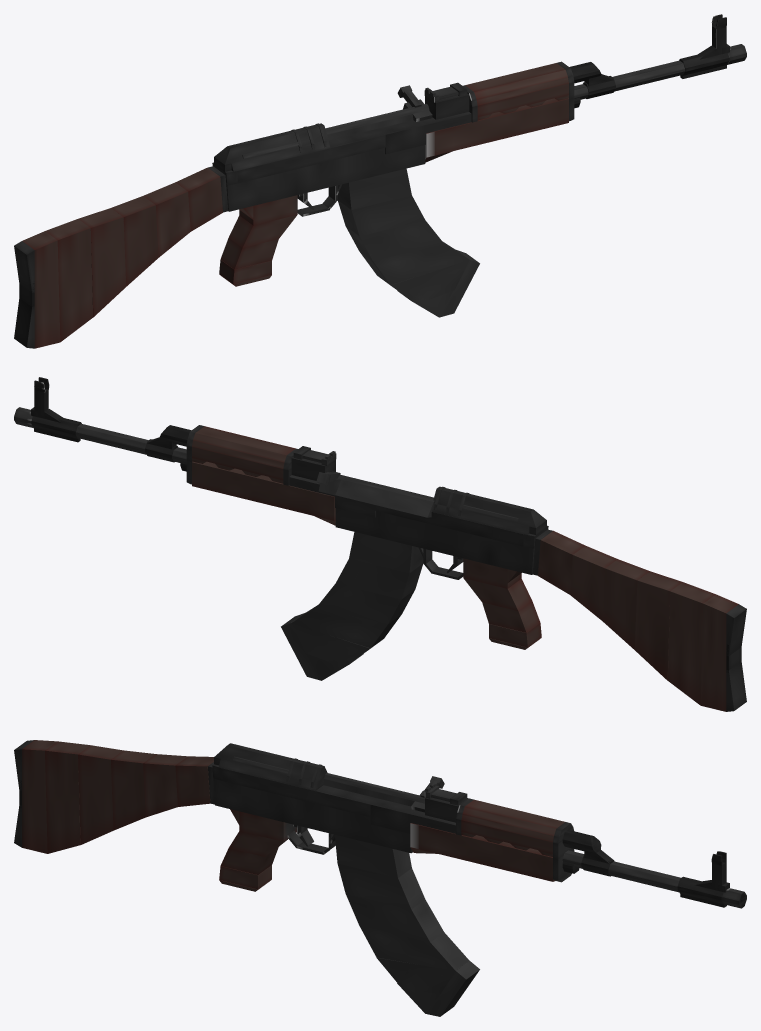
3 renders of one model, top to bottom at view 1: azimuth 30°, elevation 25°; view 2: azimuth 150°, elevation 25°; view 3: azimuth 330°, elevation 25°, orthographic.
Visible parts, largest first — view 1: gunModel0, gunModel74, gunModel5, gunModel73, gunModel75, gunModel72, ammoModel3, ammoModel2, ammoModel1, gunModel71, gunModel41, ammoModel0 (+20 smaller); view 2: gunModel0, gunModel74, gunModel5, gunModel73, gunModel75, gunModel72, ammoModel3, ammoModel2, ammoModel1, gunModel71, ammoModel0, gunModel70 (+18 smaller); view 3: gunModel0, gunModel5, gunModel74, gunModel73, gunModel75, ammoModel3, ammoModel2, gunModel72, ammoModel1, ammoModel0, gunModel41, gunModel71 (+18 smaller).
Boxes of the visible parts, box(x1,y1,x2,y2) form: gunModel0: box(213, 120, 425, 211); gunModel74: box(45, 219, 92, 341); gunModel5: box(425, 98, 568, 157); gunModel73: box(78, 208, 126, 317); gunModel75: box(22, 231, 60, 348); gunModel72: box(111, 196, 158, 286); ammoModel3: box(359, 241, 468, 284); ammoModel2: box(346, 220, 443, 260); ammoModel1: box(337, 195, 424, 236); gunModel71: box(143, 182, 190, 257); gunModel41: box(237, 134, 385, 183); ammoModel0: box(337, 168, 411, 209); gunModel0: box(335, 508, 548, 574); gunModel74: box(668, 582, 715, 705); gunModel5: box(192, 461, 335, 520); gunModel73: box(634, 571, 682, 680); gunModel75: box(700, 594, 738, 711); gunModel72: box(602, 559, 649, 649); ammoModel3: box(291, 605, 401, 648); ammoModel2: box(317, 583, 414, 624); ammoModel1: box(335, 558, 423, 599); gunModel71: box(570, 545, 617, 620); ammoModel0: box(349, 532, 423, 573); gunModel70: box(538, 530, 585, 594); gunModel0: box(212, 764, 415, 853); gunModel5: box(410, 823, 554, 881); gunModel74: box(45, 741, 90, 853); gunModel73: box(78, 745, 122, 844); gunModel75: box(22, 740, 56, 853); ammoModel3: box(359, 925, 468, 970); ammoModel2: box(346, 894, 443, 942); gunModel72: box(111, 750, 155, 830); ammoModel1: box(337, 863, 425, 909); ammoModel0: box(335, 835, 411, 877); gunModel41: box(222, 768, 370, 817); gunModel71: box(143, 754, 187, 817).
Bounding box in the file's own units: 26.87 × 8.02 × 1.74.
